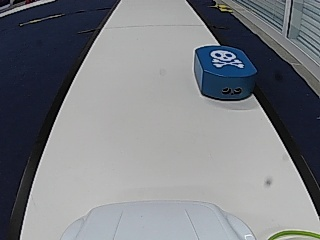danger: (211, 49, 242, 68)
